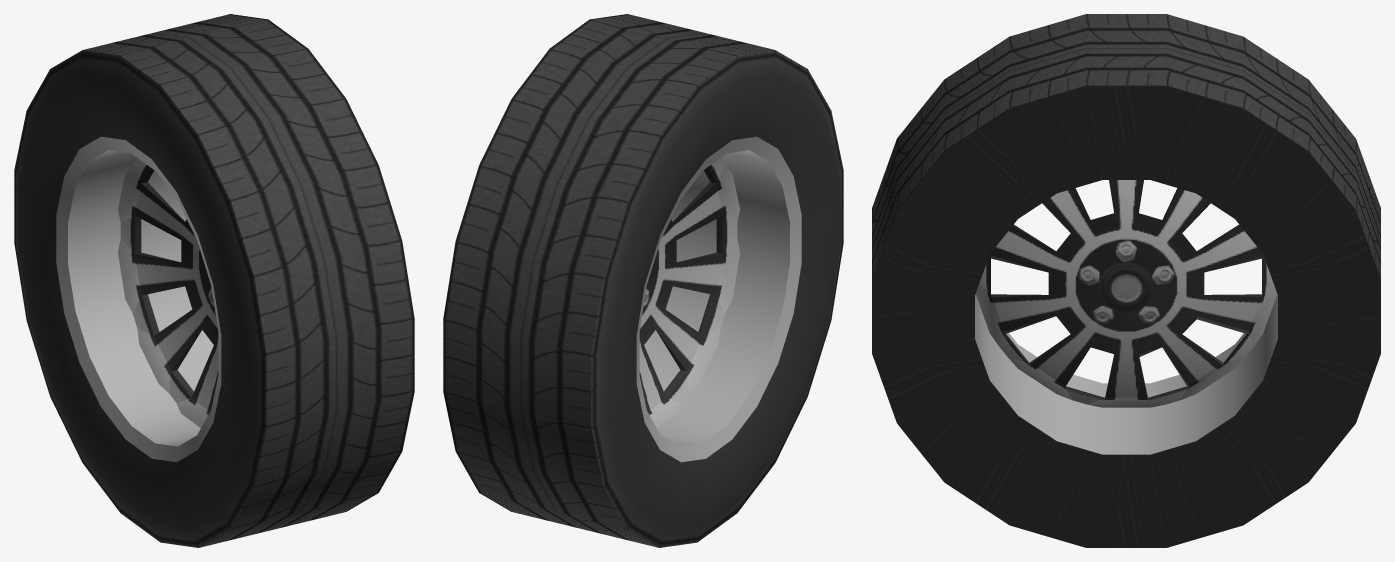
Rendered from GTO_Alloy05.fbx.
3 views of the same model, side by side, from view 1: azimuth 30°, elevation 25°; view 2: azimuth 150°, elevation 25°; view 3: azimuth 270°, elevation 25° (orthographic).
Visible parts, largest first — view 1: Empty_Mesh; view 2: Empty_Mesh; view 3: Empty_Mesh.
Boxes of the visible parts, <box> form: Empty_Mesh: <box>14,14,414,547</box>; Empty_Mesh: <box>443,14,843,547</box>; Empty_Mesh: <box>872,14,1380,547</box>.
Size of the model in its own units: 24.66 by 68 by 68.
